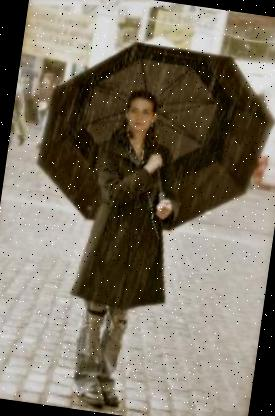person: (48, 80, 191, 416)
